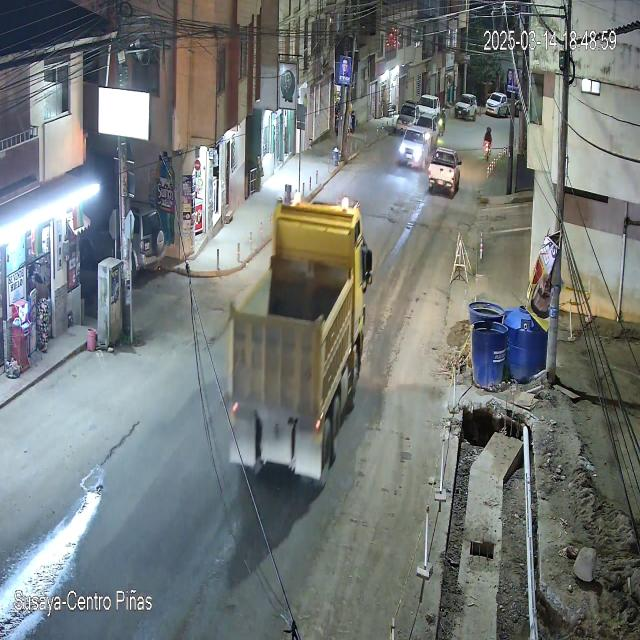TRUCK: (230, 197, 372, 485)
